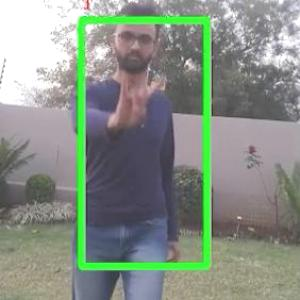takeoff-hand: (109, 64, 165, 134)
